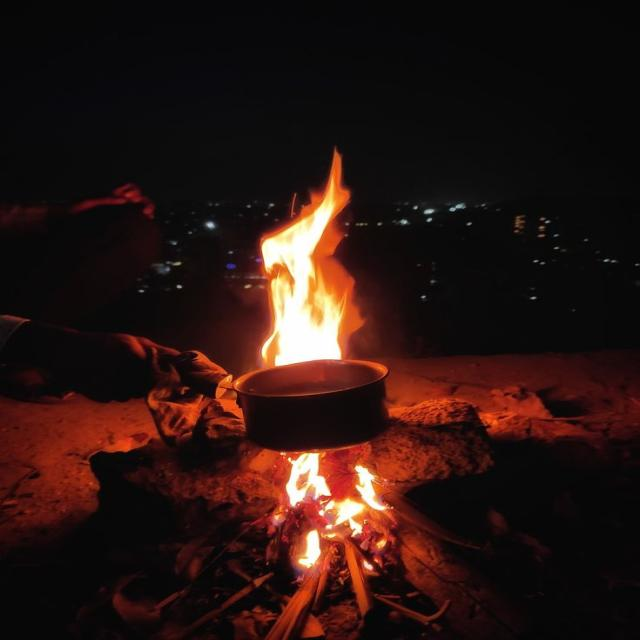fire: (255, 149, 345, 367), (286, 449, 330, 506), (356, 462, 387, 510)
